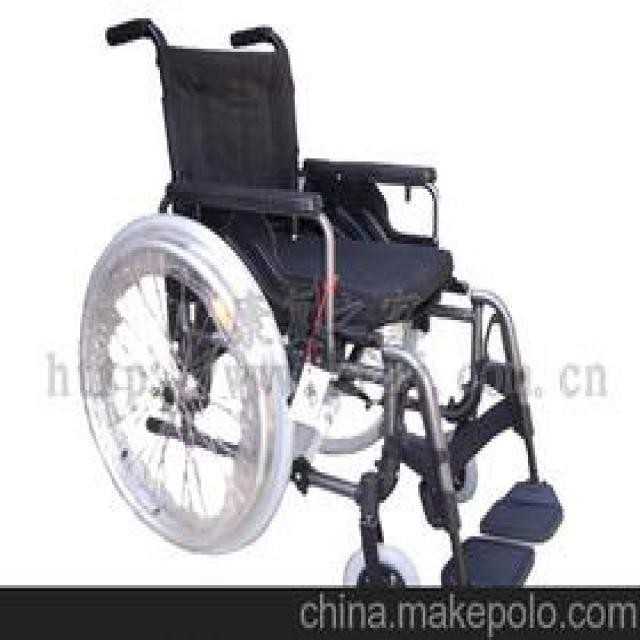wheelchair: (57, 9, 565, 579)
